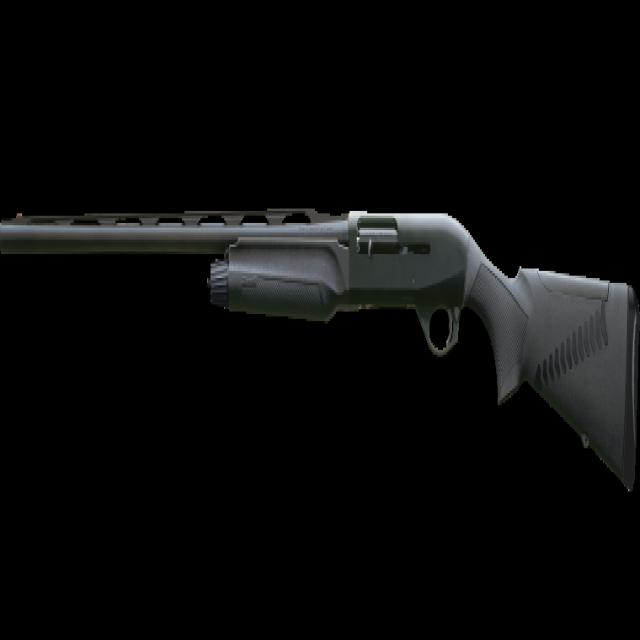ShotGun: (0, 204, 640, 489)
